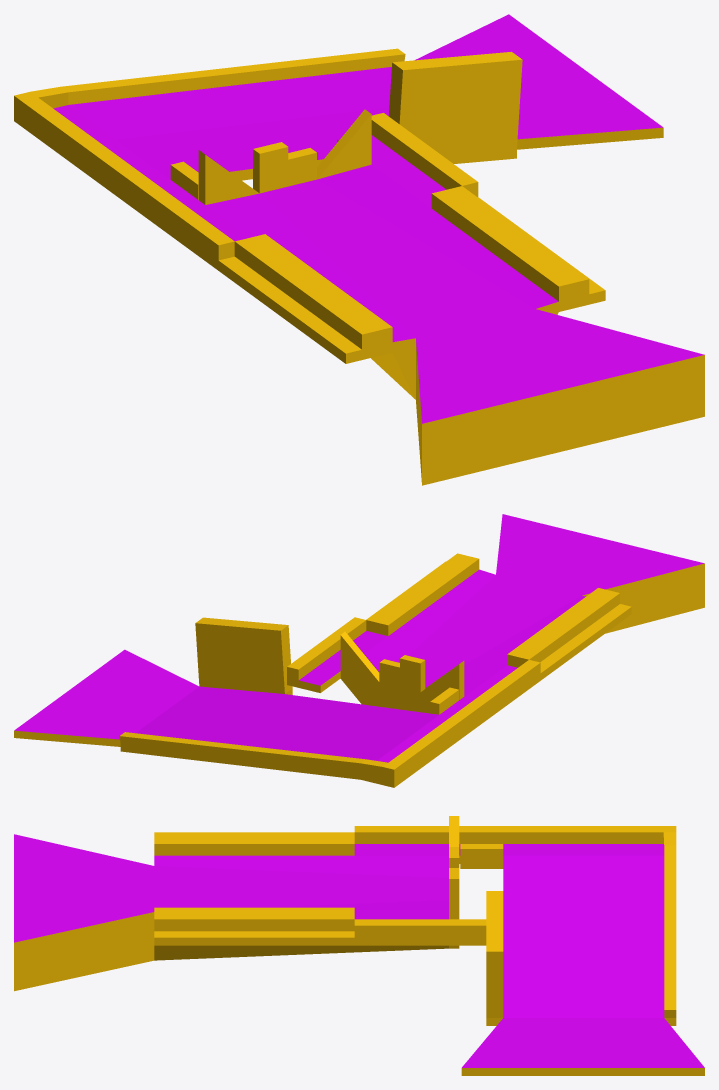
File: newlevel.FBX
3 views of the same model, one above another, from view 1: azimuth 30°, elevation 25°; view 2: azimuth 150°, elevation 25°; view 3: azimuth 270°, elevation 25° (orthographic). The views are drawn at different scales.
Parts seen in each view (by area): view 1: Box001; view 2: Box001; view 3: Box001.
Boxes of the visible parts, left/top/right/bottom form: Box001: left=14, top=14, right=704, bottom=485; Box001: left=14, top=514, right=704, bottom=787; Box001: left=14, top=816, right=704, bottom=1075.
Bounding box in the file's own units: 682 × 157 × 986.
